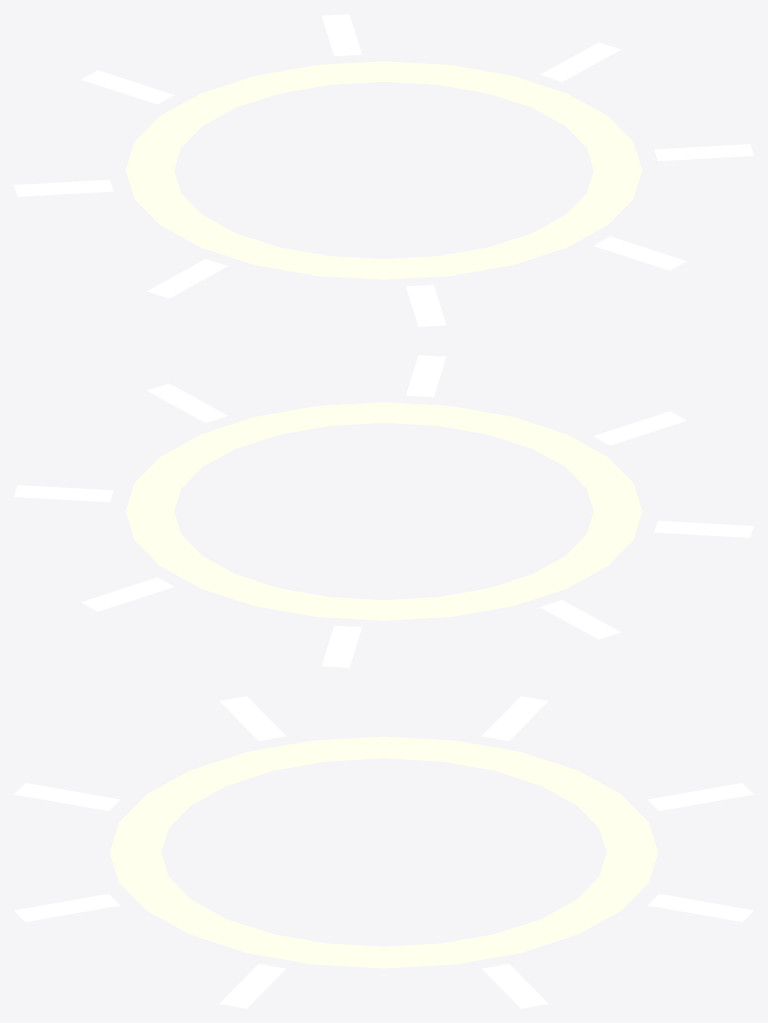
Rendered from blessing_halo.glb.
3 views of the same model, one above another, from view 1: azimuth 30°, elevation 25°; view 2: azimuth 150°, elevation 25°; view 3: azimuth 270°, elevation 25° (orthographic). The views are drawn at different scales.
Visible parts, largest first — view 1: blessing_halo; view 2: blessing_halo; view 3: blessing_halo.
Boxes of the visible parts, <box> form: blessing_halo: <box>14,14,753,326</box>; blessing_halo: <box>14,355,753,667</box>; blessing_halo: <box>14,696,753,1008</box>.
Size of the model in its own units: 0.8634 by 0 by 0.8634.
